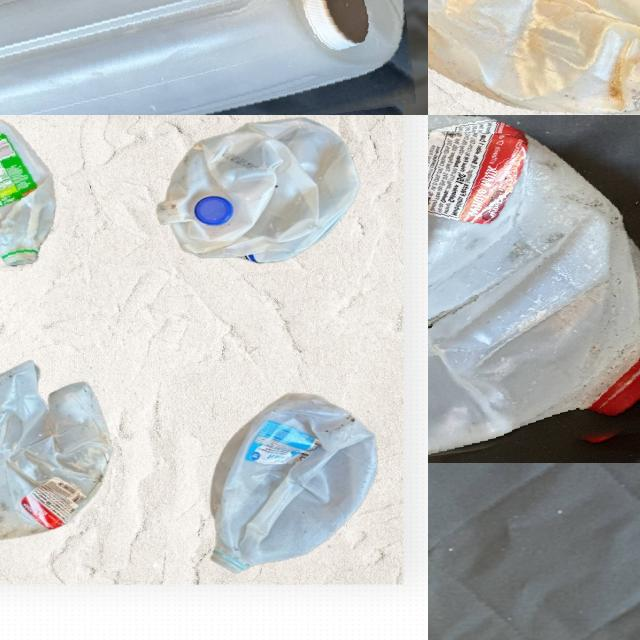milk-jug: (428, 115, 640, 478), (0, 0, 409, 115), (205, 397, 381, 570), (156, 119, 364, 258), (428, 0, 640, 115), (0, 368, 114, 537), (0, 115, 62, 273)
